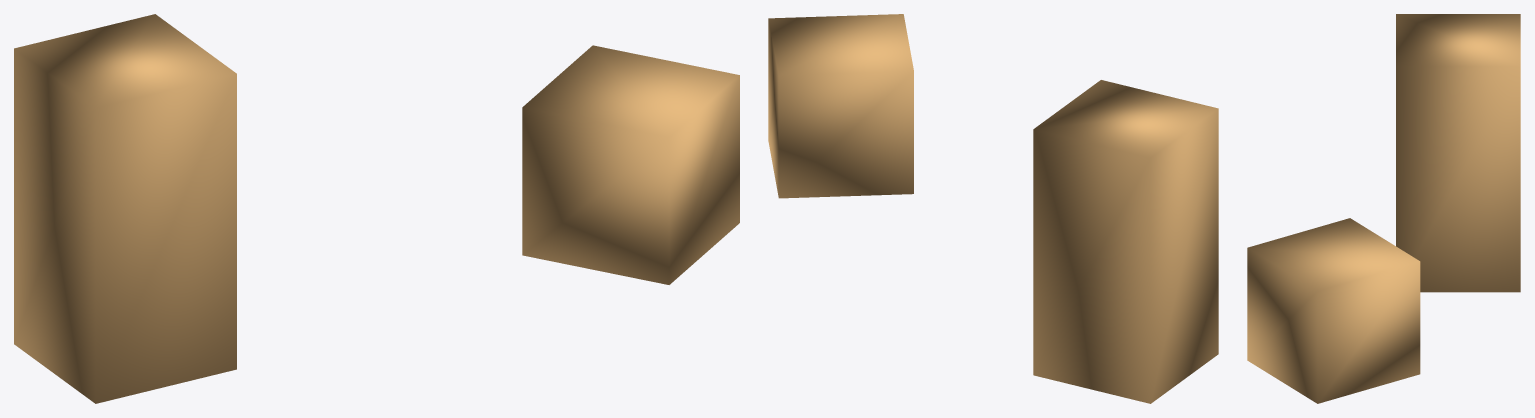
Rendered from world.glb.
3 views of the same model, side by side, from view 1: azimuth 30°, elevation 25°; view 2: azimuth 150°, elevation 25°; view 3: azimuth 270°, elevation 25° (orthographic). The views are drawn at different scales.
Visible parts, largest first — view 1: crate2, crate1; view 2: crate2, crate1; view 3: crate2, crate1.
Boxes of the visible parts, x1,y1,x2,y2 form: crate2: (14,14,236,403); crate1: (522,45,739,284); crate2: (1033,80,1218,403); crate1: (768,14,913,198); crate2: (1396,14,1520,292); crate1: (1247,218,1420,403).
Bounding box in the file's own units: 4.19 × 2 × 2.19.
